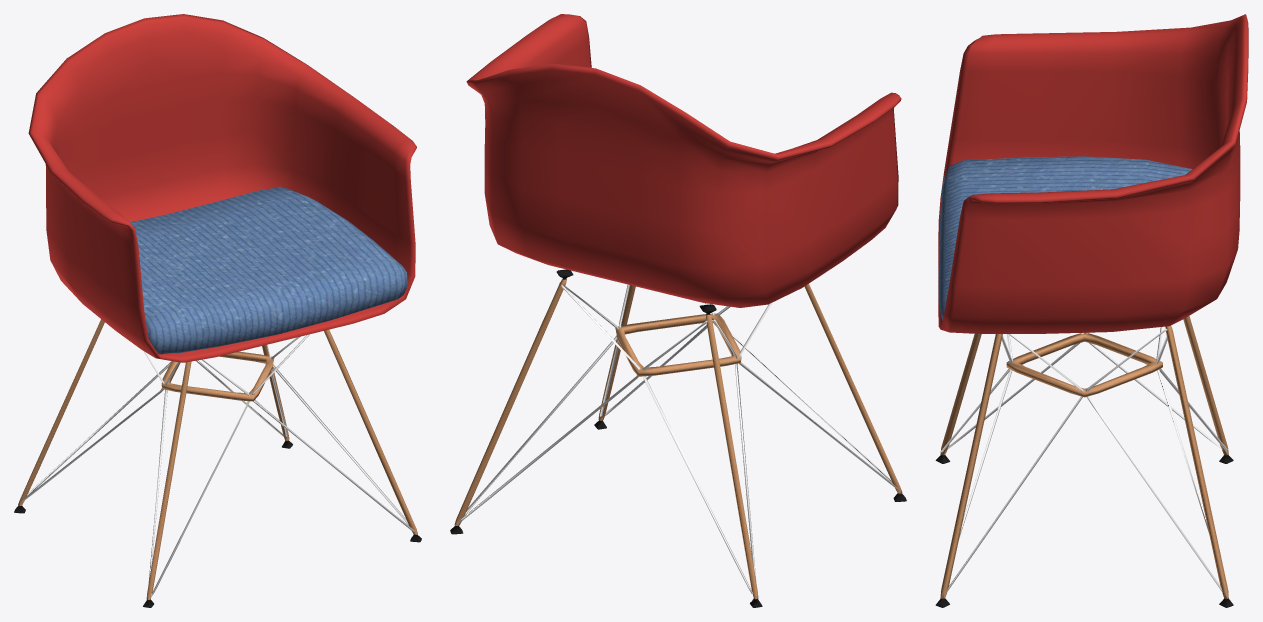
File: chair_001.glb
The picture shows the model from 3 angles, left to right: view 1: azimuth 30°, elevation 25°; view 2: azimuth 150°, elevation 25°; view 3: azimuth 270°, elevation 25°; orthographic projection. The views are drawn at different scales.
Parts seen in each view (by area): view 1: Chair_001; view 2: Chair_001; view 3: Chair_001.
Part boxes in pixels (box(x1,y1,x2,y2)): Chair_001: box(14, 14, 421, 607); Chair_001: box(450, 14, 906, 607); Chair_001: box(935, 14, 1248, 607).
Size of the model in its own units: 0.7528 by 1.05 by 0.595.
Materials: 1 (1 with a texture image).
